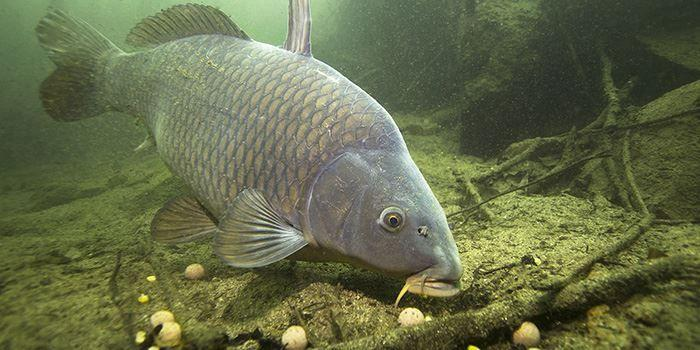Grass Carp: (36, 4, 461, 305)
